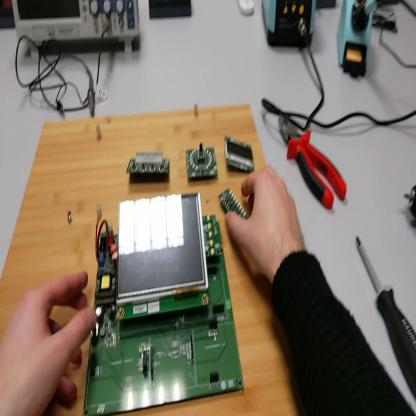electric screwdriver: (406, 184, 416, 219)
hand: (1, 268, 98, 416), (228, 168, 305, 277)
oscilloscope: (13, 1, 143, 64)
oscilloscope probe tip: (86, 66, 97, 118)
pliers: (279, 114, 347, 209)
screwdriver-: (358, 238, 416, 397)
socket: (2, 2, 16, 31), (374, 1, 400, 11), (318, 3, 339, 8)
welder base: (336, 2, 374, 80)
welder probe tip: (358, 1, 379, 27)
welder station: (263, 2, 315, 49)
working area: (2, 104, 304, 414)
